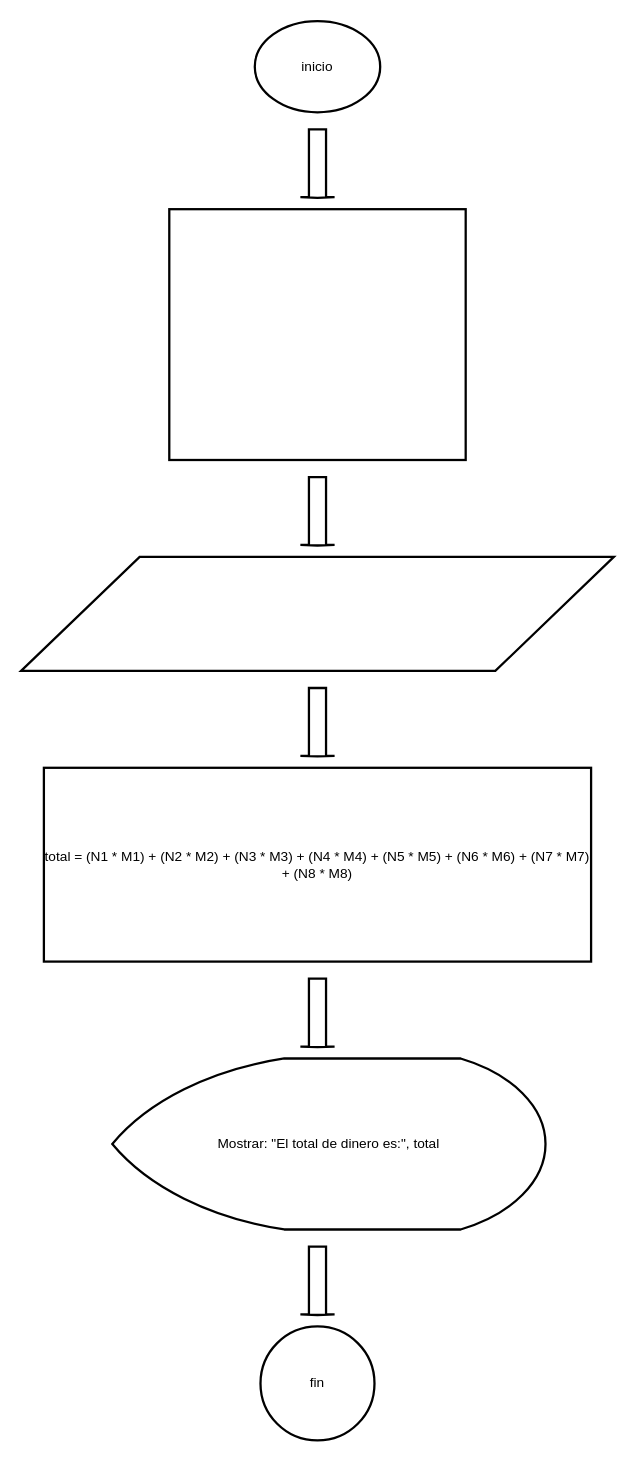
The diagram is 634 pixels wide and 1460 high, and some of its shapes have lost their labels. Here are the shapes that lost their labels. From the top down, the centre of each, then its label:
At [317,334]: "M1 = 50000 M2 = 20000 M3 = 10000 M4 = 5000 M5 = 2000 M6 = 1000 M7 = 500 M8 = 100".
At [316,613]: "Leer: N1, N2, N3, N4, N5, N6, N7, N8".
